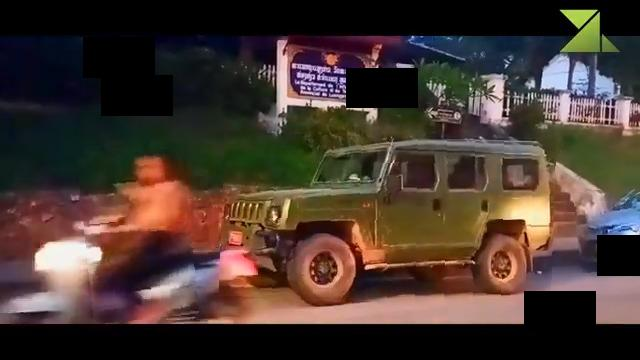MIL_HMMWV: (220, 135, 555, 305), (82, 150, 196, 322), (574, 187, 640, 271)
